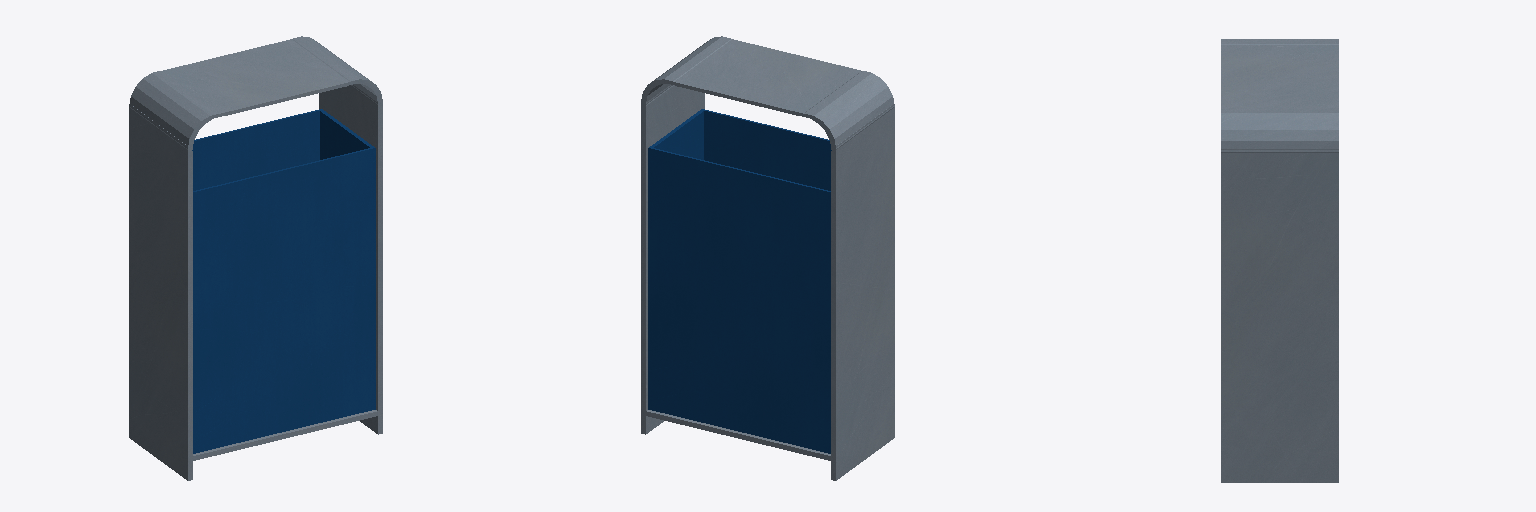
3 views of the same model, side by side, from view 1: azimuth 30°, elevation 25°; view 2: azimuth 150°, elevation 25°; view 3: azimuth 270°, elevation 25° (orthographic).
Parts seen in each view (by area): view 1: Box012, Box010; view 2: Box012, Box010; view 3: Box010.
Part boxes in pixels (left/top/right/bottom): Box012: left=192, top=109, right=375, bottom=453; Box010: left=129, top=36, right=382, bottom=480; Box012: left=648, top=109, right=831, bottom=453; Box010: left=641, top=36, right=894, bottom=480; Box010: left=1221, top=39, right=1338, bottom=482.
Bounding box in the file's own units: 27.77 × 48.99 × 14.47.
2 materials, 2 textured.